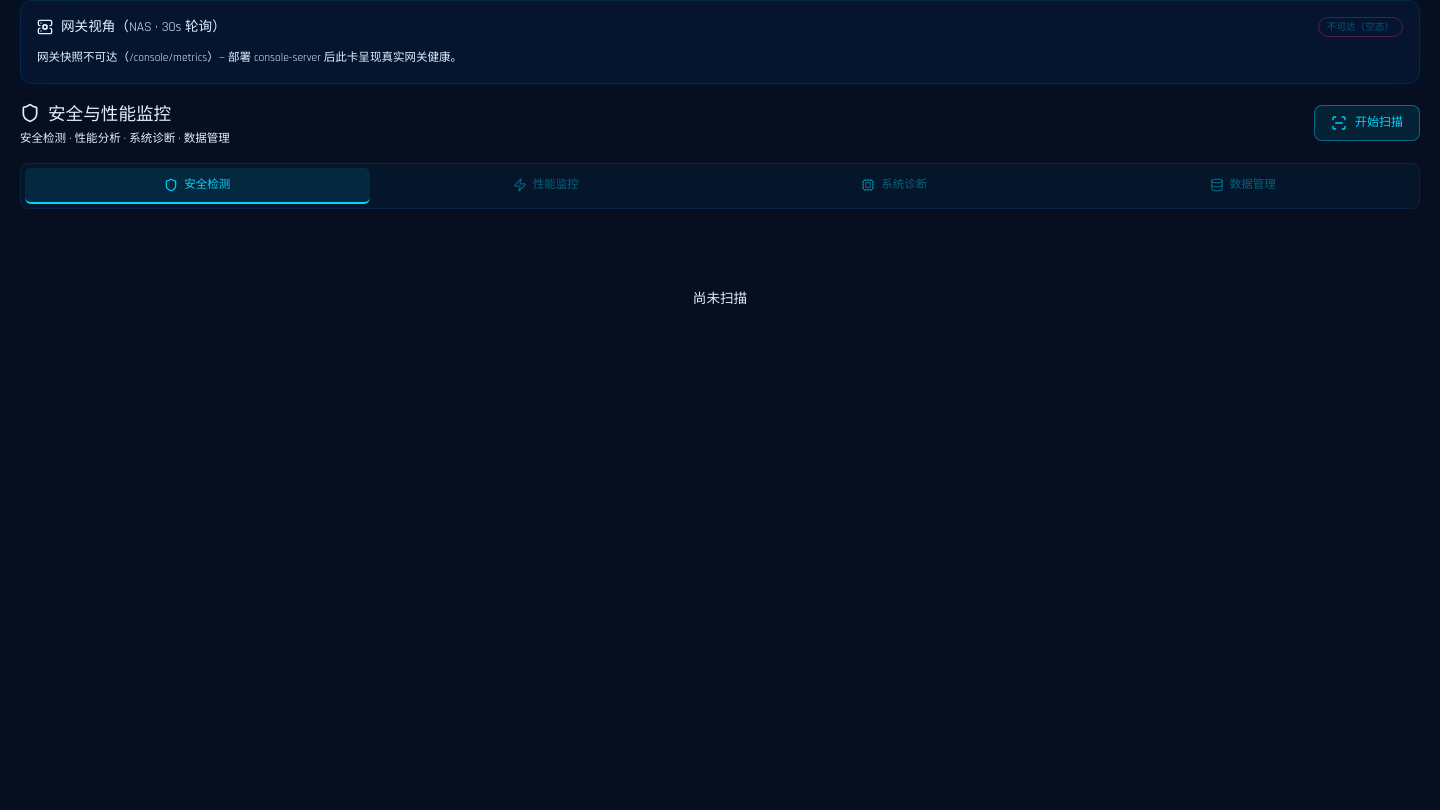
it: SecurityMonitor › switches to data management tab
This screenshot has width=1440, height=810.
Click the button "开始扫描" at {"x": 1367, "y": 124}, box [1314,106,1420,142]
Wait 2000 ms
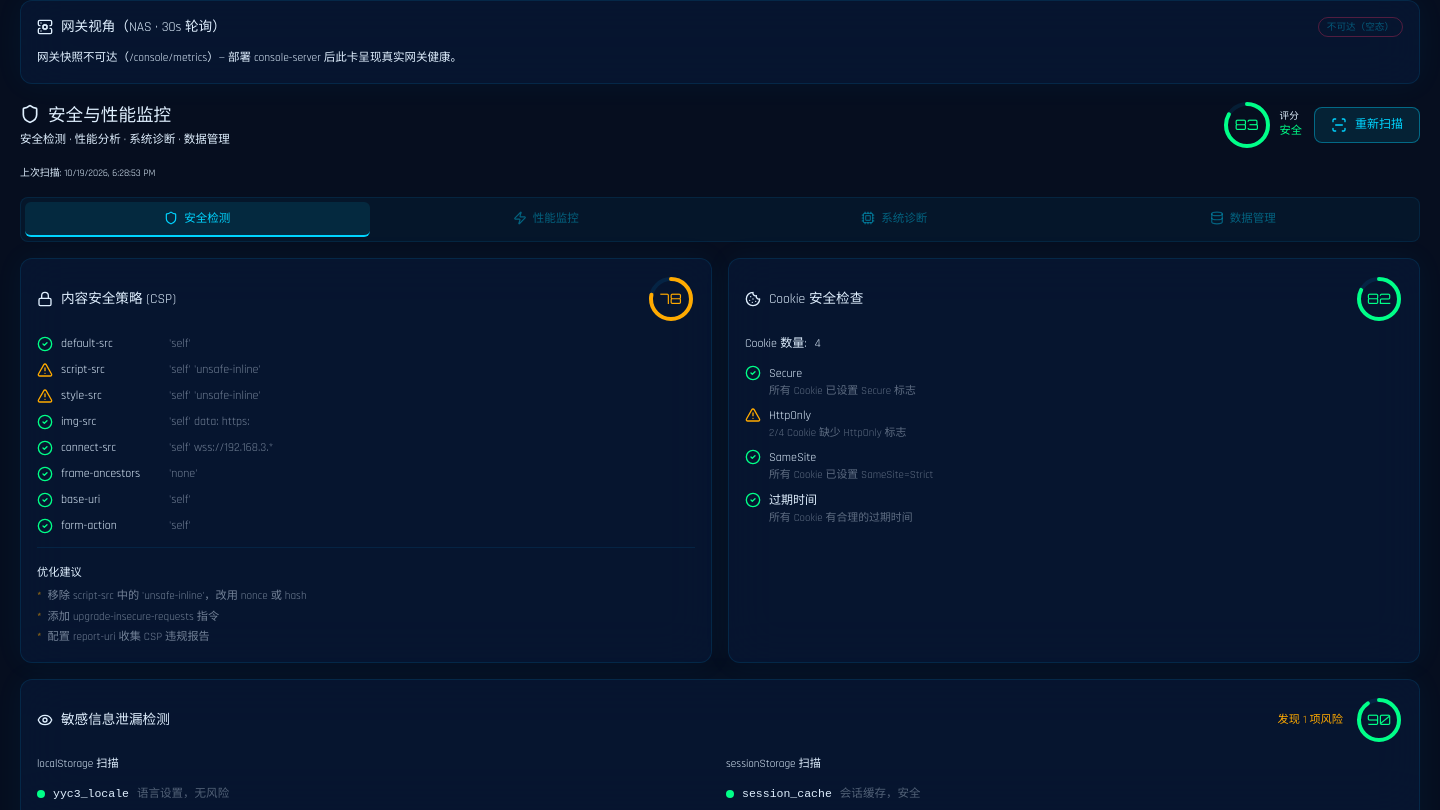
Click the button "数据管理" at {"x": 1243, "y": 219}, box [1070,202,1415,237]
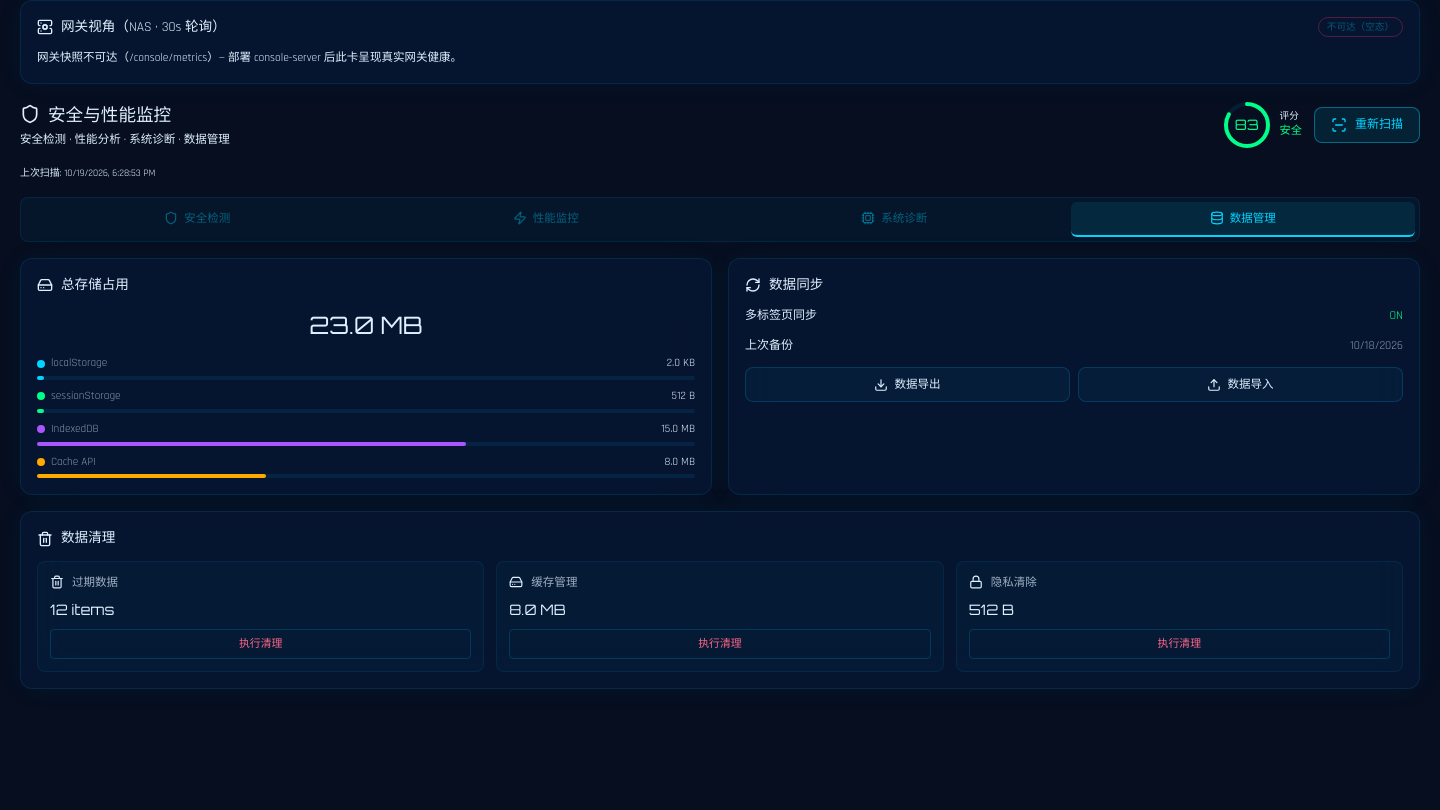
Now the text "总存储占用" is shown, box [61,275,129,295]
Now the text "数据同步" is shown, box [769,275,823,295]
Now the text "数据清理" is shown, box [61,528,115,549]
